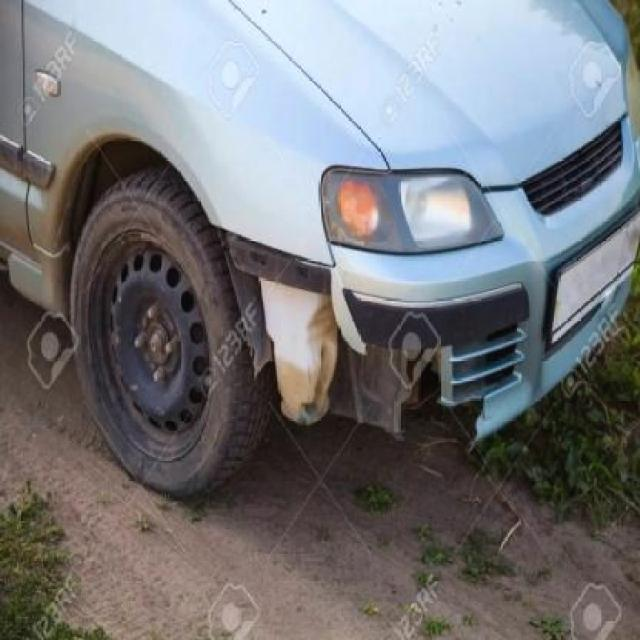minor: (226, 166, 543, 463)
